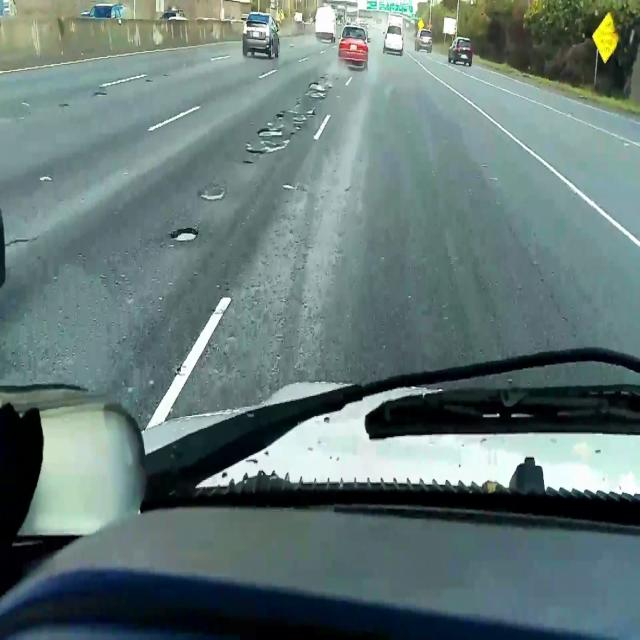Pothole: (171, 227, 201, 242), (256, 127, 284, 139), (308, 82, 330, 91), (92, 90, 108, 97)
